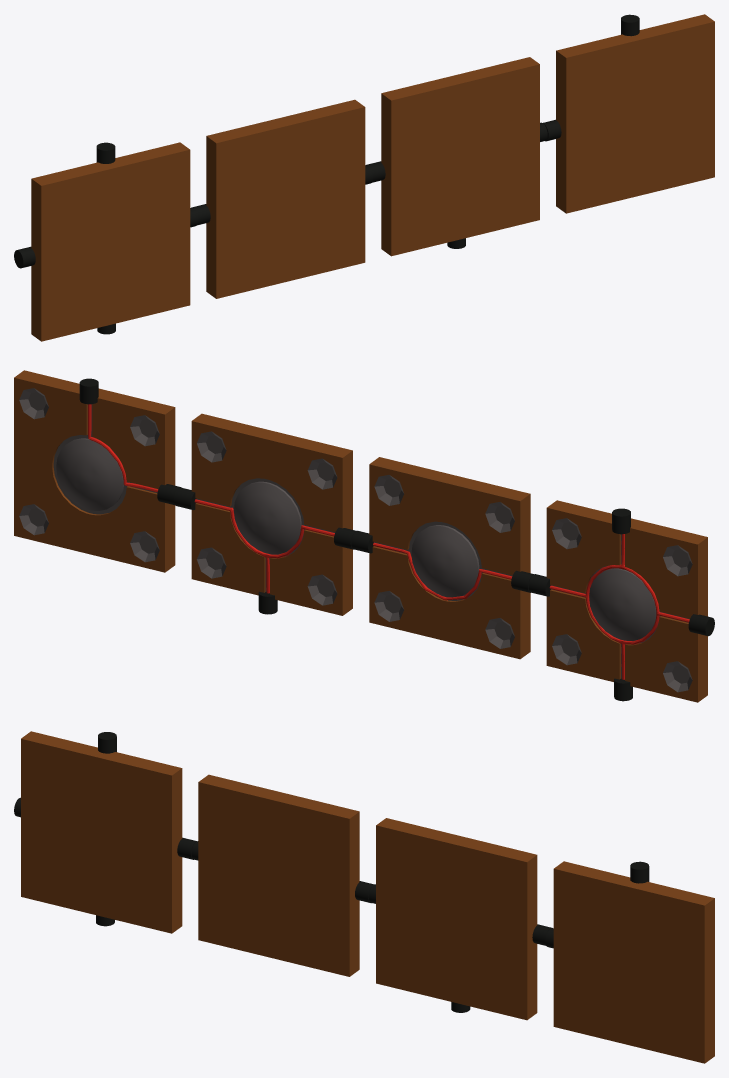
File: Cuadro_luz_MOOD.fbx
3 views of the same model, one above another, from view 1: azimuth 30°, elevation 25°; view 2: azimuth 150°, elevation 25°; view 3: azimuth 330°, elevation 25° (orthographic).
Visible parts, largest first — view 1: +_edit, L_edit, T_edit, I_edit; view 2: +_edit, T_edit, I_edit, L_edit; view 3: +_edit, L_edit, T_edit, I_edit.
Part boxes in pixels (x1=…): +_edit: x1=14, y1=142, x2=198, y2=341; L_edit: x1=543, y1=14, x2=714, y2=213; T_edit: x1=366, y1=57, x2=547, y2=256; I_edit: x1=191, y1=99, x2=373, y2=298; +_edit: x1=528, y1=500, x2=714, y2=702; T_edit: x1=174, y1=413, x2=356, y2=615; I_edit: x1=351, y1=457, x2=533, y2=659; L_edit: x1=14, y1=370, x2=181, y2=572; +_edit: x1=14, y1=731, x2=196, y2=933; L_edit: x1=545, y1=861, x2=714, y2=1063; T_edit: x1=368, y1=818, x2=553, y2=1020; I_edit: x1=191, y1=774, x2=374, y2=976.
Size of the model in its own units: 0.3922 by 0.0998 by 0.0151.
